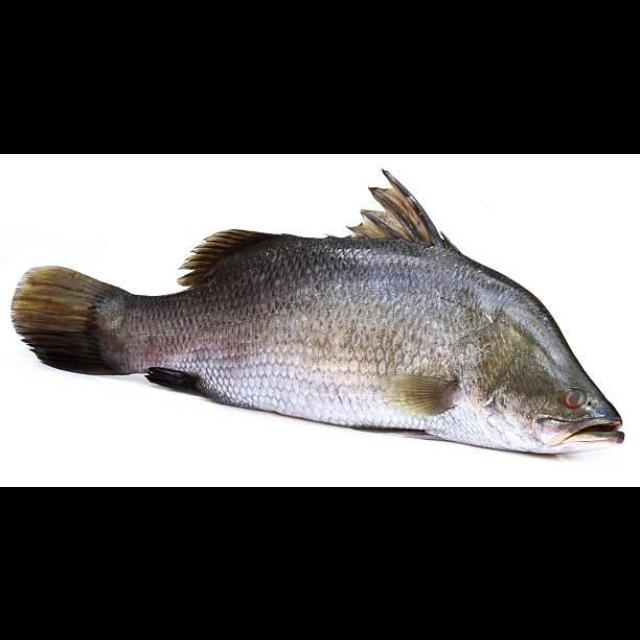Seabass: (13, 166, 625, 454)
